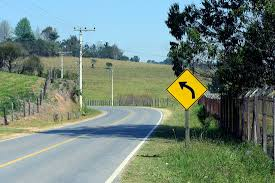curveLeft: (164, 69, 210, 110)
